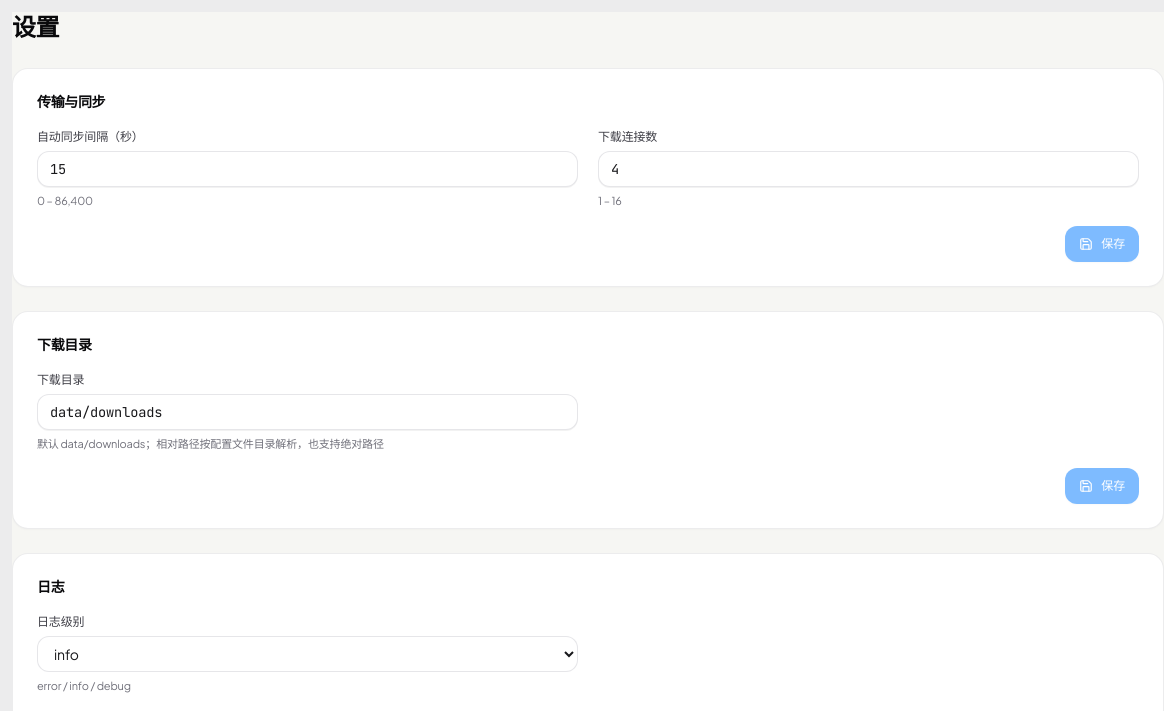
Test: SettingsView › 超范围的值标红并拒绝提交
This screenshot has width=1164, height=711.
Replace the text in the number field with id "setting-mount" with "999999": coordinates (308, 169) [37,151,578,187]
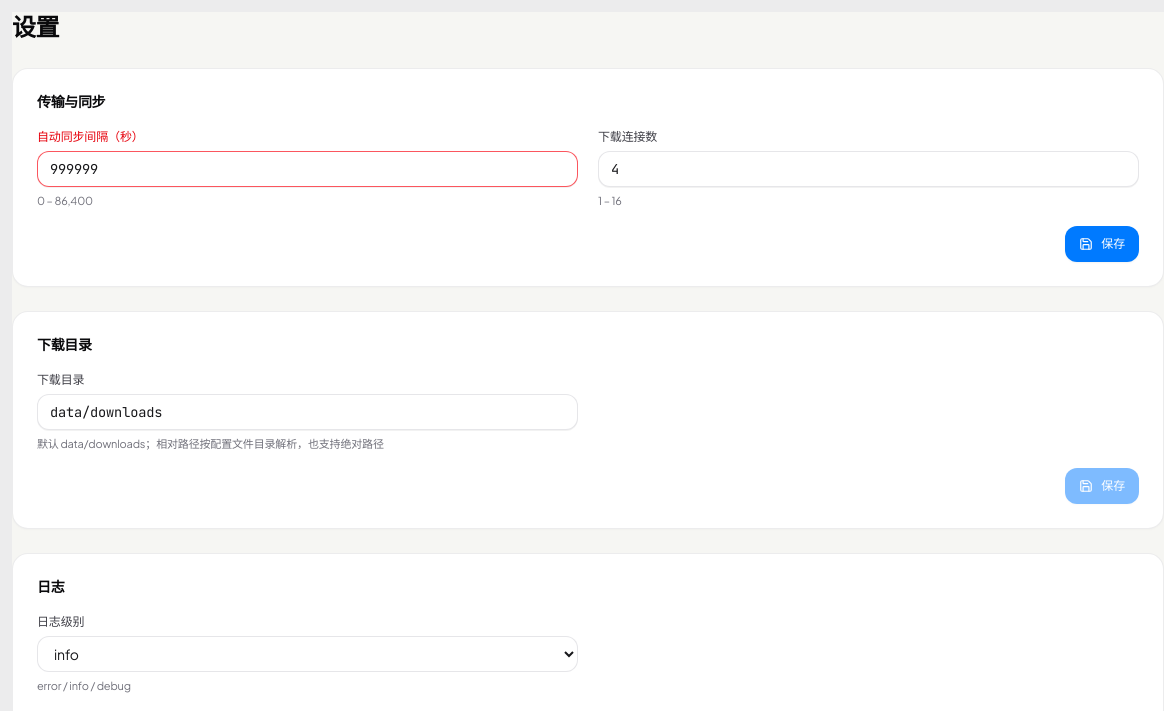
Click the 1st button "保存": coordinates (1102, 244) [1065,226,1139,262]
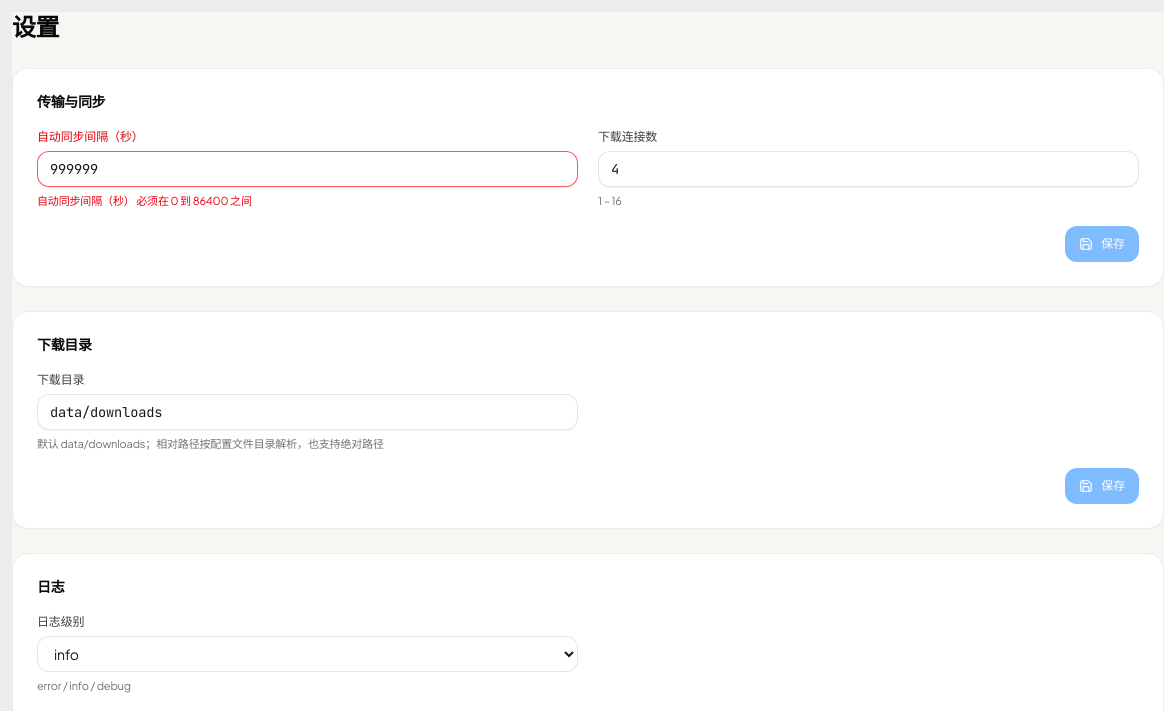
Check: the 1st button "保存" is disabled, box [1065,226,1139,262]
